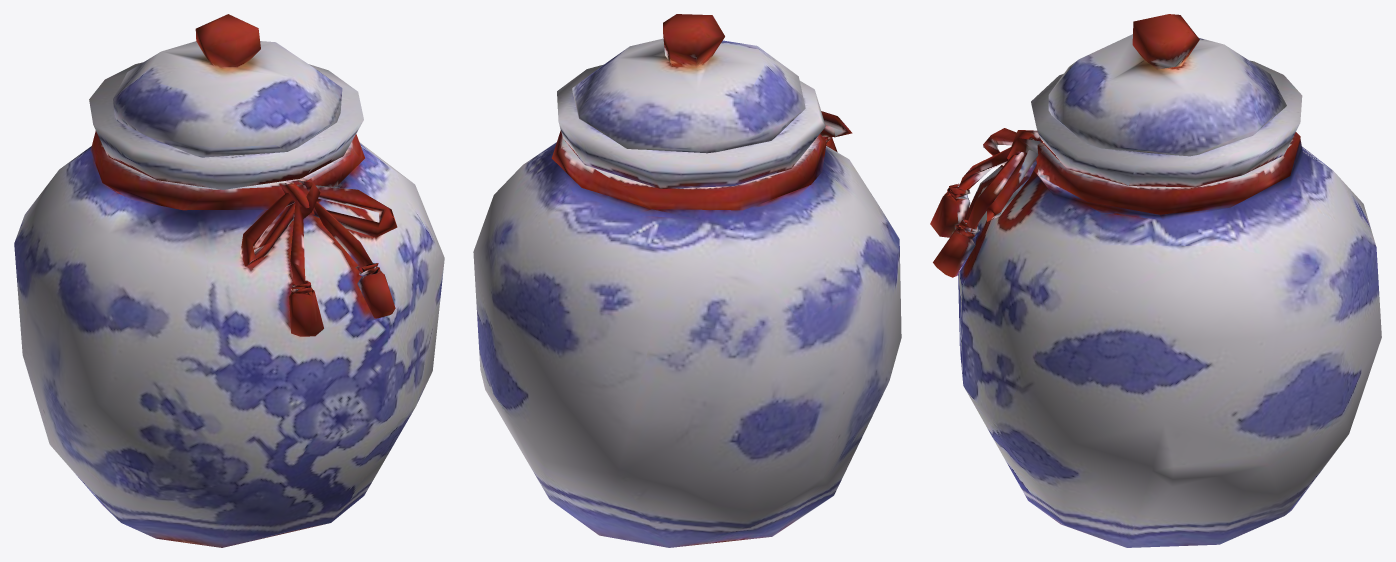
File: keg@celadon.glb
3 renders of one model, left to right at view 1: azimuth 30°, elevation 25°; view 2: azimuth 150°, elevation 25°; view 3: azimuth 270°, elevation 25°, orthographic.
Parts seen in each view (by area): view 1: keg@celadon; view 2: keg@celadon; view 3: keg@celadon.
Part boxes in pixels (bbox=[...]): keg@celadon: bbox=[14, 14, 444, 547]; keg@celadon: bbox=[473, 14, 901, 547]; keg@celadon: bbox=[930, 14, 1381, 547].
Size of the model in its own units: 0.4363 by 0.55 by 0.4631.
1 material, 1 textured.
